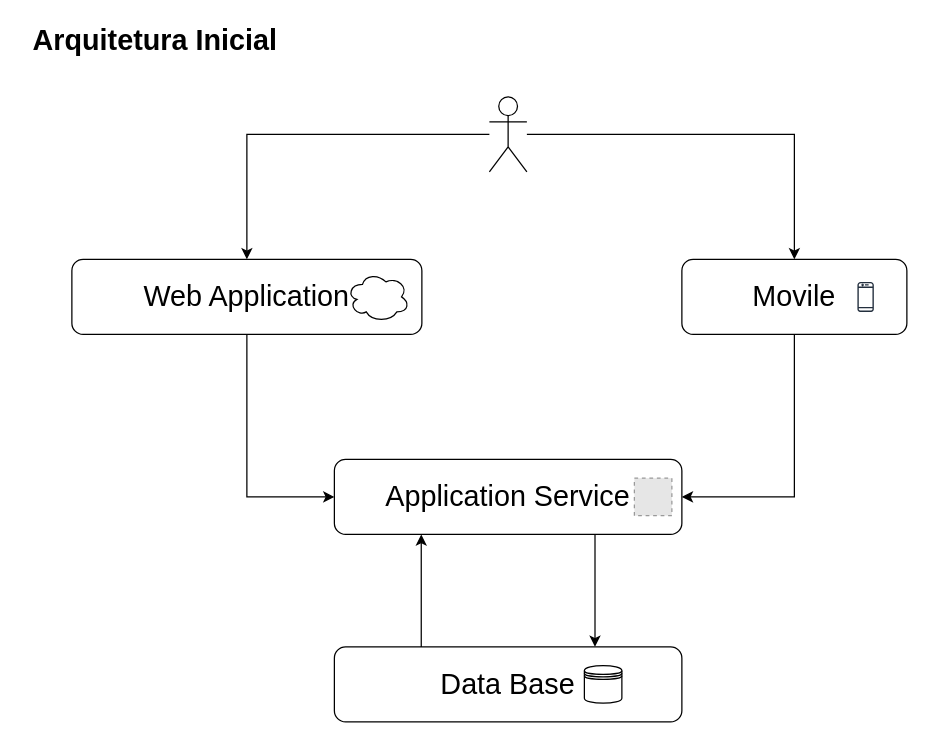
Image size: 929x744. Some labels were removed from this diagram. Grey dashed boxes stand in for pictures. The centre of each missing label's shape, as x and y in pixels:
Customer: the point at 507,134
Front end: the point at 377,296
